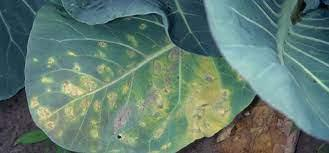Bok-Choy-Diseased: (30, 8, 227, 139)
